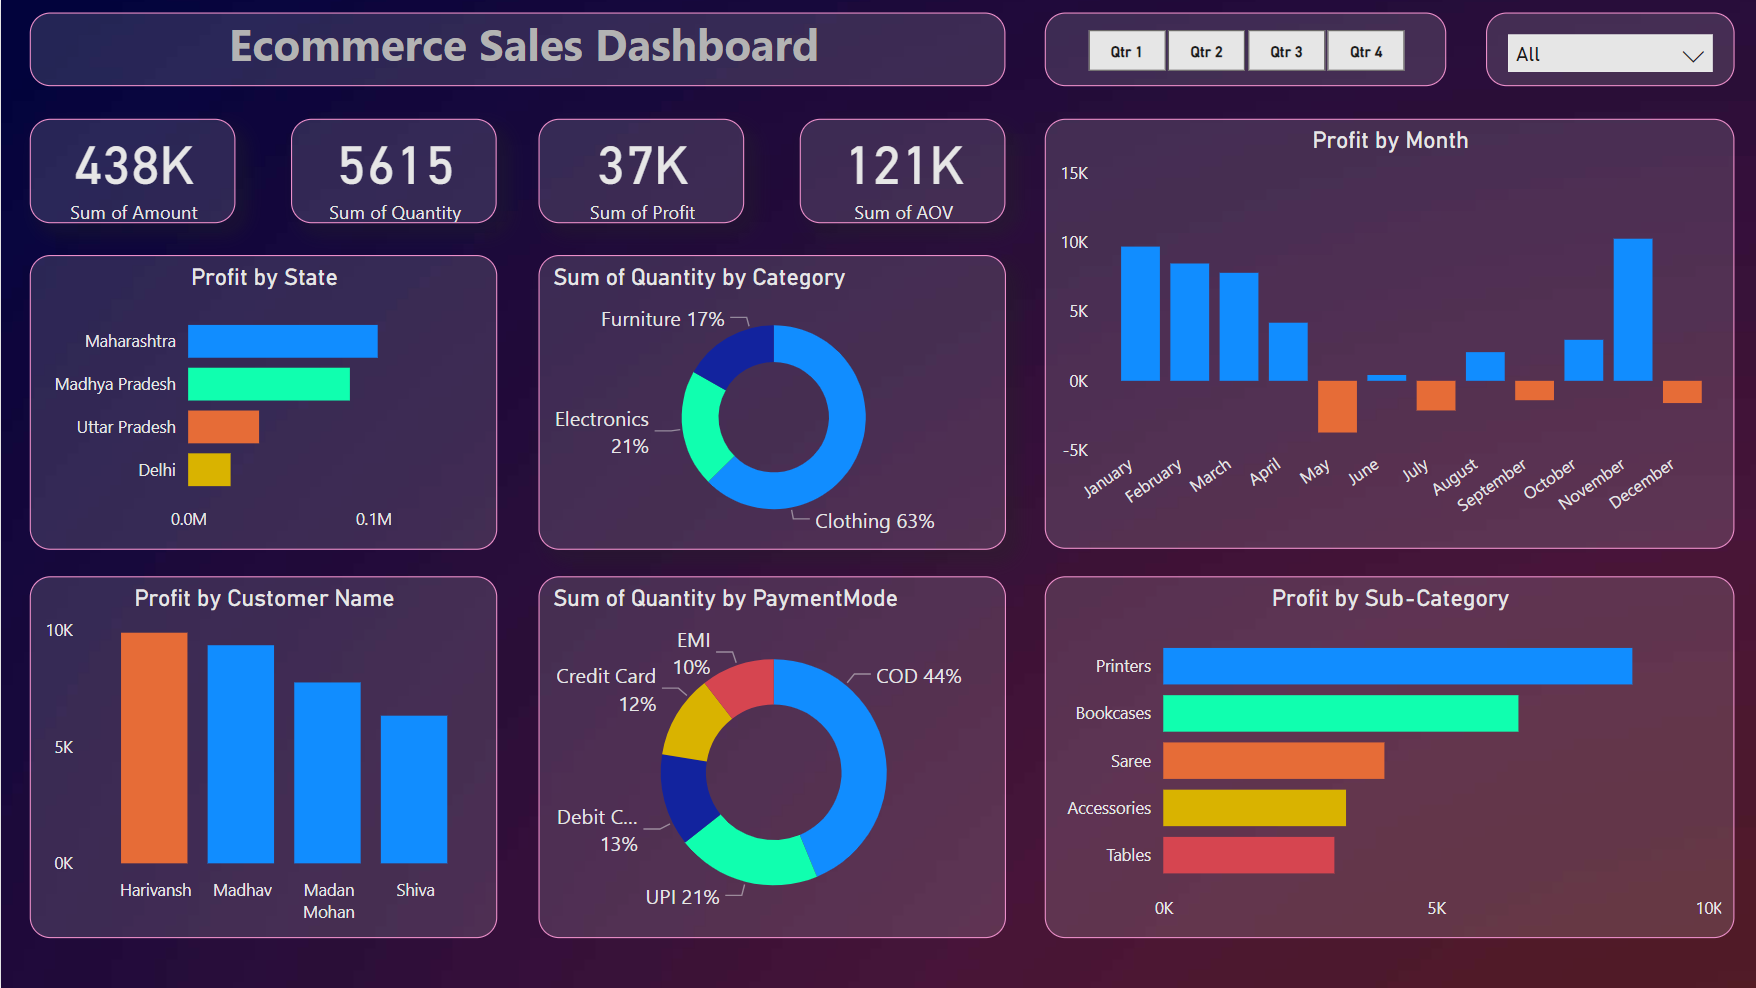

What the dashboard file says about the page in this screenshot:
{"tool":"powerbi","page":{"name":"Page 1","canvas":[1280,720],"ordinal":0},"visuals":[{"type":"columnChart","title":"Profit by Customer Name","fields":{"Category":["Orders.CustomerName"],"Y":["Details.Amount"]},"box":[21.1,419.4,339.7,263.6],"z":0},{"type":"textbox","box":[21.1,9.4,709.9,53.9],"z":1000},{"type":"clusteredBarChart","title":"Profit by Sub-Category","fields":{"Category":["Details.Sub-Category"],"Y":["Details.Profit"]},"box":[759.1,419.4,501.4,263.6],"z":2000},{"type":"donutChart","fields":{"Y":["Details.Quantity"],"Category":["Details.Category"]},"box":[391.3,185.1,339.7,214.4],"z":3000},{"type":"donutChart","fields":{"Y":["Details.Quantity"],"Category":["Details.PaymentMode"]},"box":[391.3,419.4,339.7,263.6],"z":4000},{"type":"columnChart","title":"Profit by Month","fields":{"Y":["Details.Profit"],"Category":["Orders.Order Date.Variation.Date Hierarchy.Month"]},"box":[759.1,86.7,501.4,312.8],"z":5000},{"type":"clusteredBarChart","title":"Profit by State","fields":{"Y":["Details.Amount"],"Category":["Orders.State"]},"box":[21.1,185.1,339.7,214.4],"z":6000},{"type":"card","fields":{"Values":["Details.Amount"]},"box":[21.1,86.7,150,76.1],"z":7000},{"type":"card","fields":{"Values":["Details.Quantity"]},"box":[210.9,86.7,150,76.1],"z":8000},{"type":"card","fields":{"Values":["Details.Profit"]},"box":[391.3,86.7,150,76.1],"z":9000},{"type":"card","fields":{"Values":["Details.AOV"]},"box":[581.1,86.7,150,76.1],"z":10000},{"type":"slicer","fields":{"Values":["Orders.Order Date.Variation.Date Hierarchy.Quarter"]},"box":[759.1,9.4,291.7,53.9],"z":11000},{"type":"slicer","fields":{"Values":["Orders.State"]},"box":[1080.1,9.4,180.4,53.9],"z":12000}]}

Visuals, with their boxes in screenshot pixels (x1, y1, x2, y2), scaled from the page's 1280x720 canvas onto the 1756x988 screenshot:
"Profit by Customer Name" columnChart: bbox=[29, 576, 495, 937]
textbox: bbox=[29, 13, 1003, 87]
"Profit by Sub-Category" clusteredBarChart: bbox=[1041, 576, 1729, 937]
donutChart - Details.Quantity x Details.Category: bbox=[537, 254, 1003, 548]
donutChart - Details.Quantity x Details.PaymentMode: bbox=[537, 576, 1003, 937]
"Profit by Month" columnChart: bbox=[1041, 119, 1729, 548]
"Profit by State" clusteredBarChart: bbox=[29, 254, 495, 548]
card - Details.Amount: bbox=[29, 119, 235, 223]
card - Details.Quantity: bbox=[289, 119, 495, 223]
card - Details.Profit: bbox=[537, 119, 743, 223]
card - Details.AOV: bbox=[797, 119, 1003, 223]
slicer - Orders.Order Date.Variation.Date Hierarchy.Quarter: bbox=[1041, 13, 1442, 87]
slicer - Orders.State: bbox=[1482, 13, 1729, 87]
